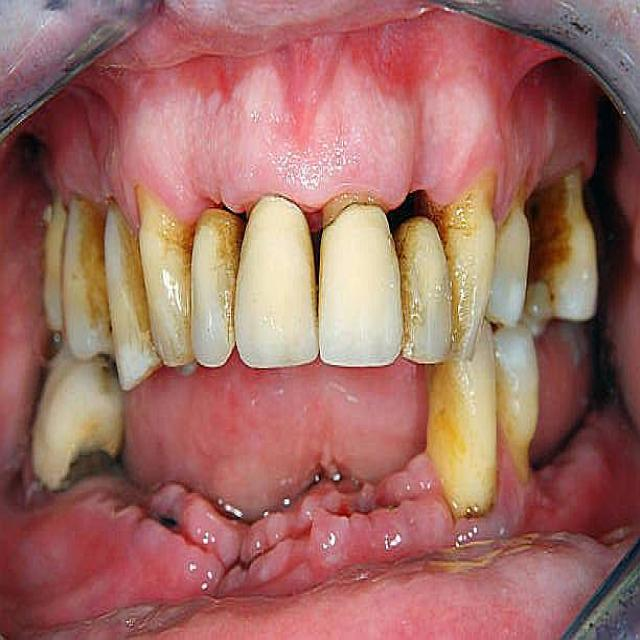caries: (51, 421, 128, 499)
